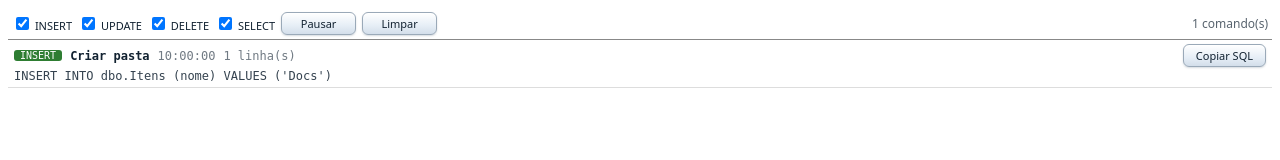
Test case: limpar zera a lista
This screenshot has width=1280, height=160.
Click the button "Limpar": (400, 24) [362,12,437,35]
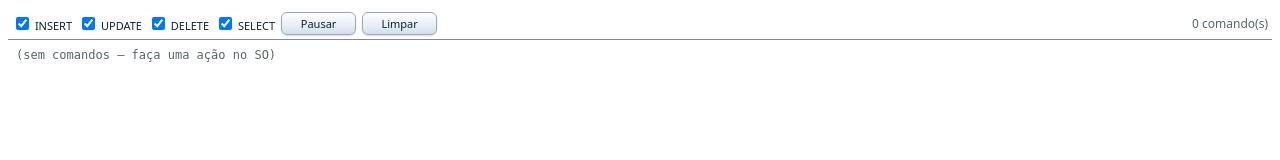
Expected: the text "Criar pasta" is gone
